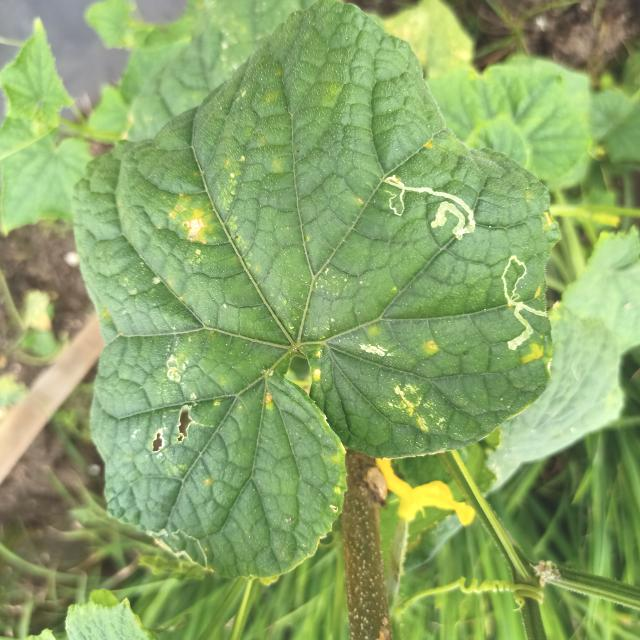disease_cucumber: (146, 346, 204, 454), (379, 378, 448, 434), (358, 332, 447, 366), (168, 196, 206, 246), (521, 341, 549, 367), (309, 346, 326, 384), (263, 384, 278, 406), (544, 209, 552, 226)
